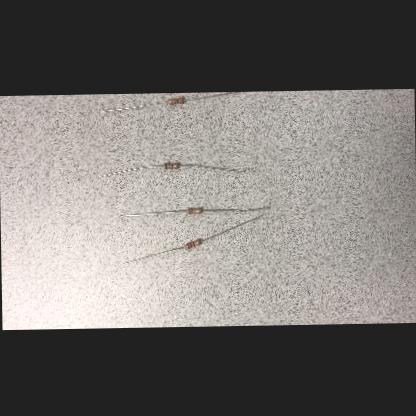resistor: (184, 239, 200, 248), (167, 96, 183, 102), (186, 206, 202, 212), (162, 162, 178, 167)
wire: (200, 213, 262, 240), (122, 245, 184, 263), (98, 164, 162, 176), (102, 100, 166, 110), (184, 90, 240, 100), (180, 163, 246, 171), (120, 209, 186, 215), (202, 205, 270, 210)
